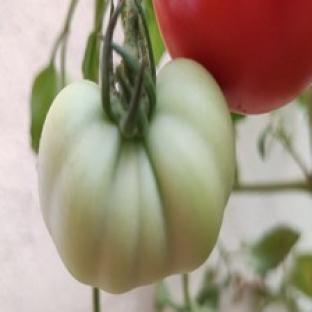Tomato: (38, 59, 235, 292)
